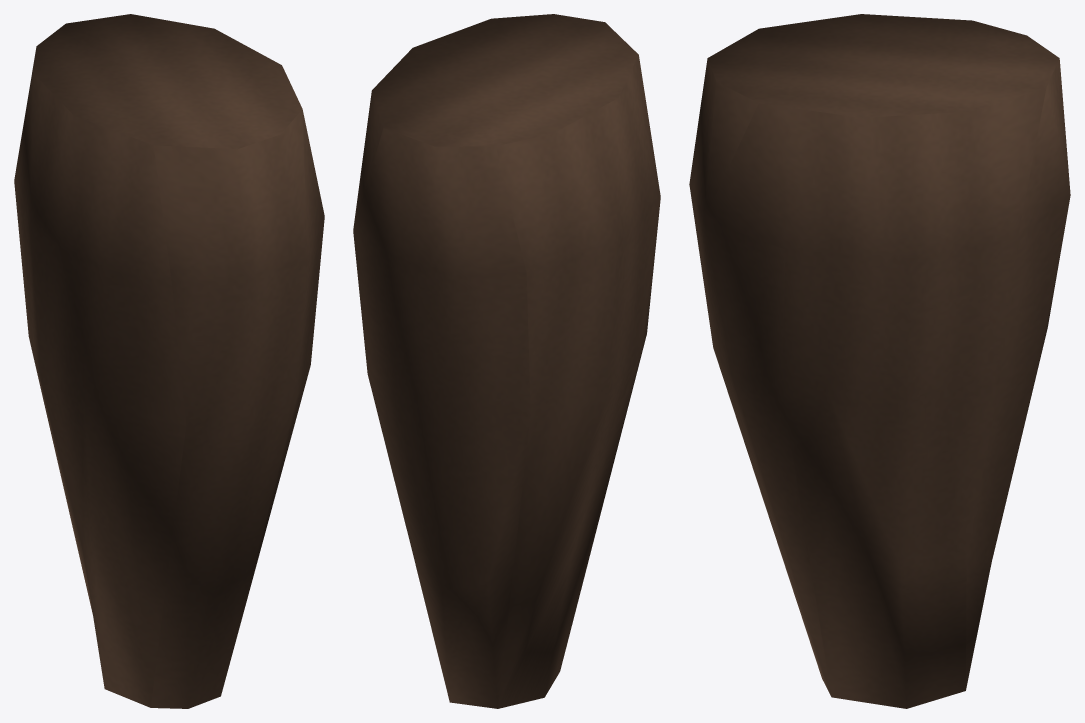
The picture shows the model from 3 angles, left to right: view 1: azimuth 30°, elevation 25°; view 2: azimuth 150°, elevation 25°; view 3: azimuth 270°, elevation 25°; orthographic projection. The views are drawn at different scales.
Parts seen in each view (by area): view 1: agro_rr_up_LOD1; view 2: agro_rr_up_LOD1; view 3: agro_rr_up_LOD1.
Boxes of the visible parts, x1,y1,x2,y2 form: agro_rr_up_LOD1: (14,14,324,708); agro_rr_up_LOD1: (353,14,660,708); agro_rr_up_LOD1: (689,14,1070,708).
Size of the model in its own units: 0.3011 by 0.6951 by 0.389.
Materials: 1 (1 with a texture image).
